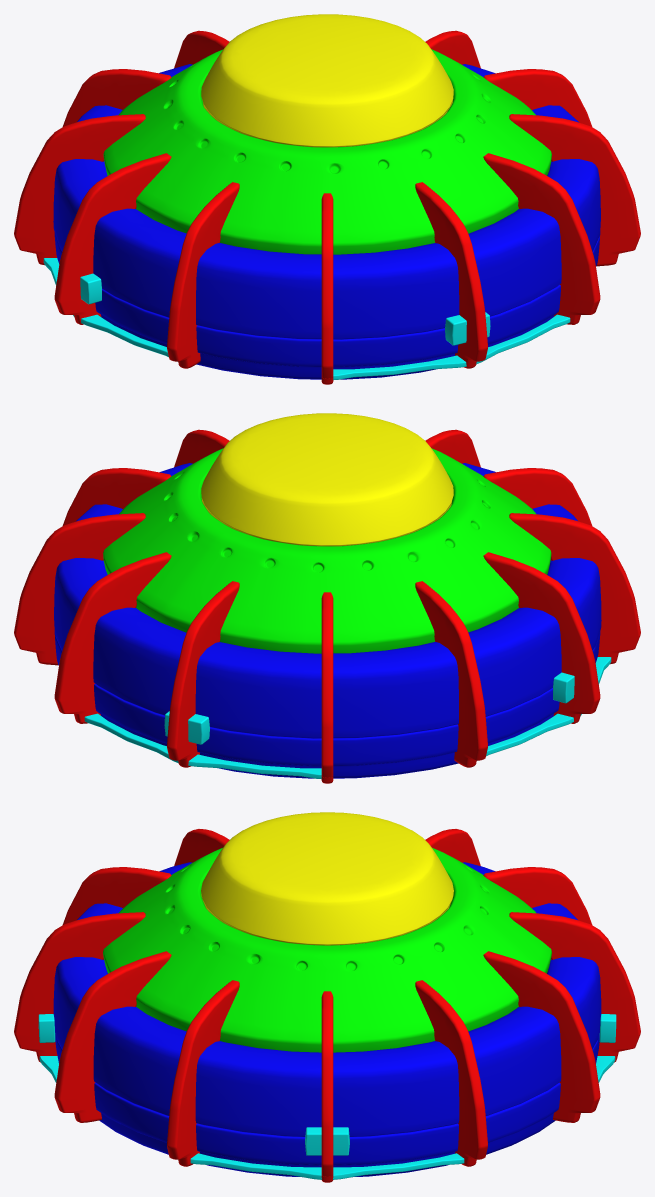
3 renders of one model, top to bottom at view 1: azimuth 30°, elevation 25°; view 2: azimuth 150°, elevation 25°; view 3: azimuth 270°, elevation 25°, orthographic.
Parts seen in each view (by area): view 1: LandMine_Low; view 2: LandMine_Low; view 3: LandMine_Low.
Part boxes in pixels (left/top/right/bottom): LandMine_Low: left=14, top=14, right=640, bottom=384; LandMine_Low: left=14, top=413, right=640, bottom=783; LandMine_Low: left=14, top=812, right=640, bottom=1182.
Bounding box in the file's own units: 10.07 × 3.96 × 10.07.
